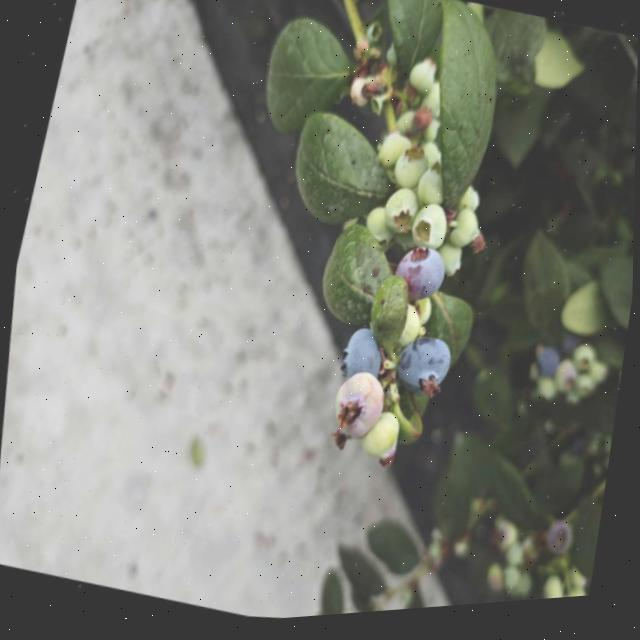RipeBlueBerry: (379, 320, 468, 420), (322, 321, 401, 403)
Semi-RipeBlueBerry: (381, 244, 453, 317)
UnripeBlueBerry: (316, 354, 397, 463), (371, 189, 422, 249), (404, 204, 452, 258)
